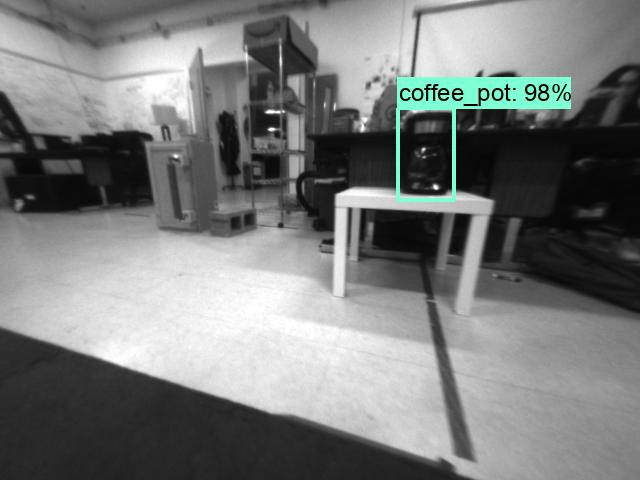coffee_pot: (400, 110, 450, 198)
